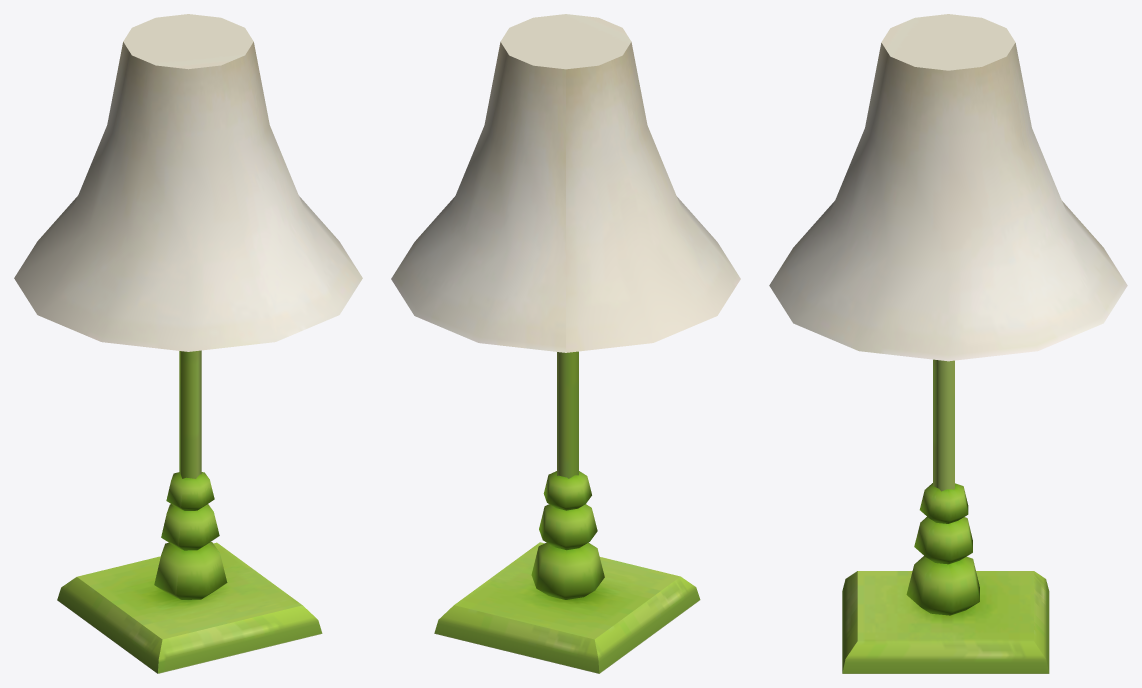
File: furni_0200137_02.FBX
3 views of the same model, side by side, from view 1: azimuth 30°, elevation 25°; view 2: azimuth 150°, elevation 25°; view 3: azimuth 270°, elevation 25° (orthographic). The views are drawn at different scales.
Parts seen in each view (by area): view 1: furni_0200137_02; view 2: furni_0200137_02; view 3: furni_0200137_02.
Part boxes in pixels (x1,y1,x2,y2): furni_0200137_02: [14, 14, 362, 673]; furni_0200137_02: [391, 14, 740, 673]; furni_0200137_02: [769, 14, 1127, 673].
Size of the model in its own units: 34.11 by 61.96 by 34.11.
